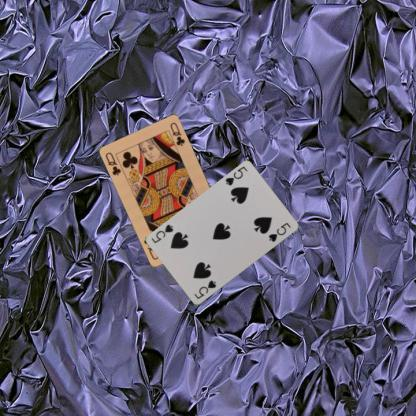5s: (223, 164, 249, 188), (192, 278, 217, 300)
Qc: (102, 150, 122, 176)
